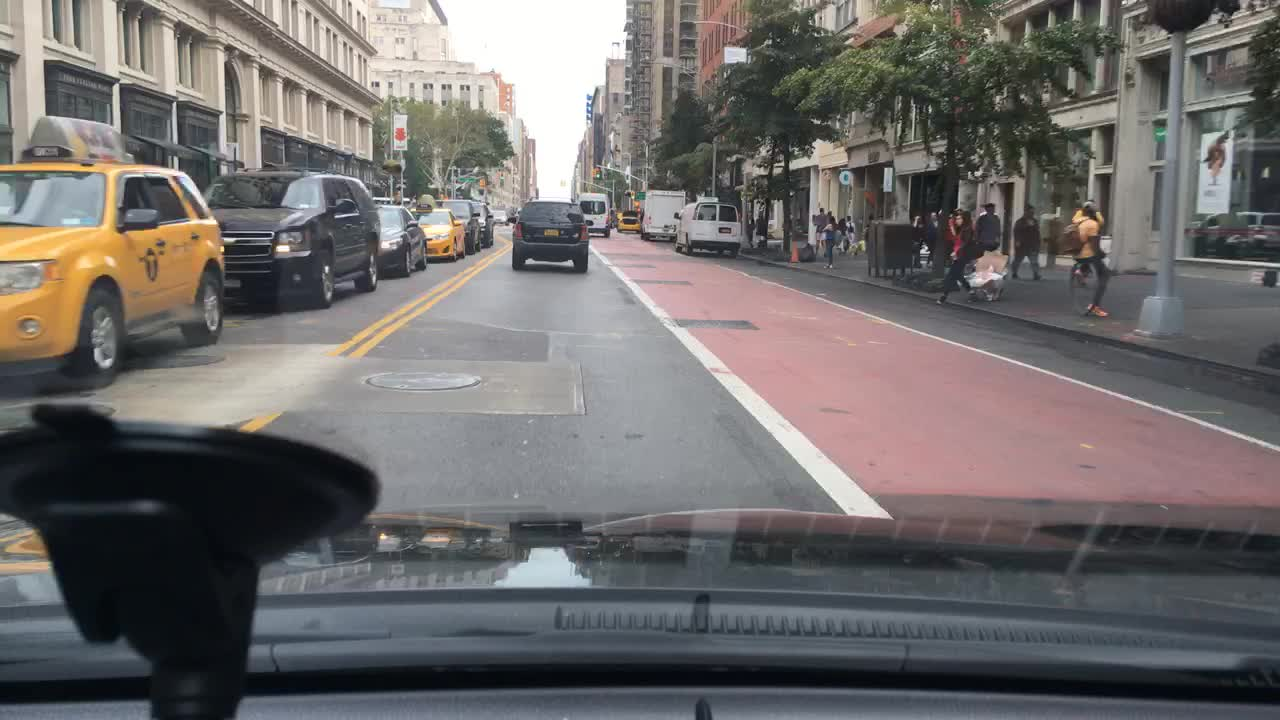bike: (1061, 254, 1115, 318)
car: (1, 113, 229, 392), (197, 167, 383, 310), (508, 195, 593, 277), (367, 198, 429, 280), (1187, 208, 1278, 260), (408, 195, 467, 265), (434, 193, 479, 257), (573, 190, 613, 236), (476, 198, 495, 248), (614, 211, 640, 233), (491, 203, 510, 225)
person: (931, 212, 982, 310), (1008, 201, 1048, 284), (973, 198, 1002, 263), (818, 214, 838, 272), (923, 205, 940, 266), (810, 204, 829, 258), (907, 214, 923, 271), (943, 204, 958, 263), (836, 213, 852, 255), (840, 212, 854, 252), (752, 208, 767, 245), (741, 214, 756, 251)
rider: (1060, 206, 1115, 323), (1069, 197, 1106, 259)
traffic light: (589, 163, 603, 180), (499, 171, 507, 189), (479, 176, 486, 188)
traffic sign: (389, 113, 409, 154), (1149, 125, 1168, 143)
truck: (673, 198, 746, 259), (640, 185, 688, 241)
